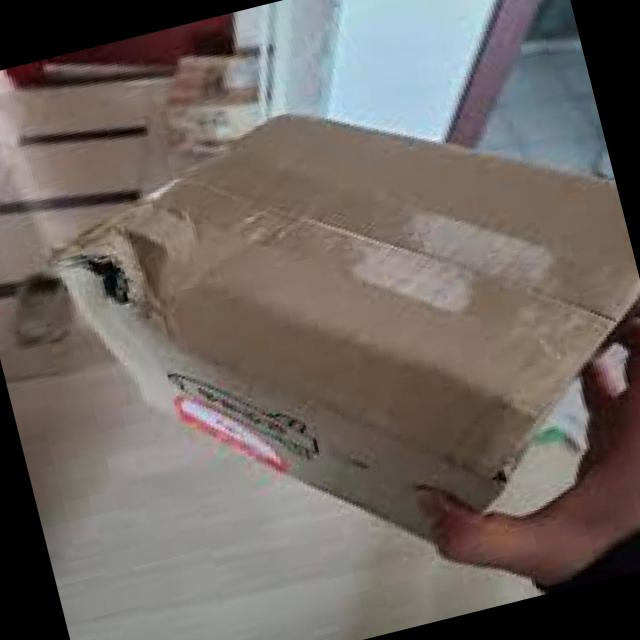box: (45, 109, 640, 544)
crushed: (118, 212, 191, 334)
tear: (56, 203, 127, 344)
